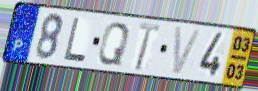4: (197, 31, 225, 80)
8: (34, 12, 64, 62)
L: (63, 16, 88, 64)
Q: (96, 21, 132, 67)
T: (133, 21, 162, 72)
V: (172, 25, 204, 76)
